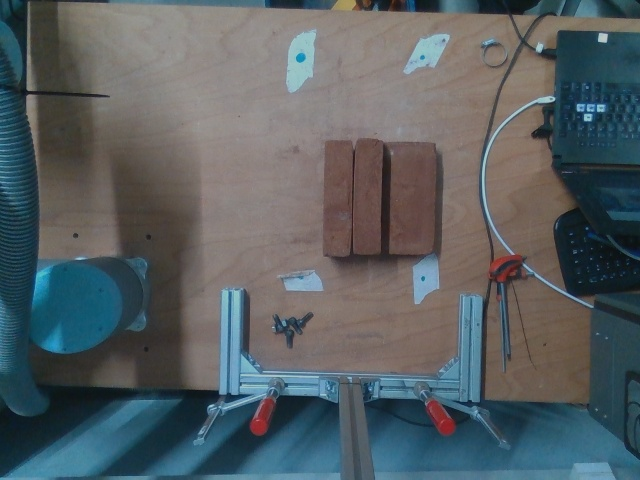brick: (383, 142, 438, 253)
brick-side: (322, 141, 352, 255), (353, 140, 379, 254)
